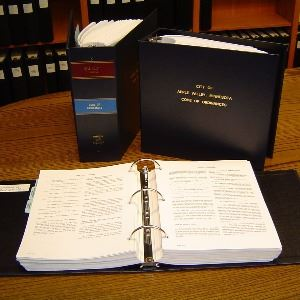Open Book: (23, 160, 282, 268)
